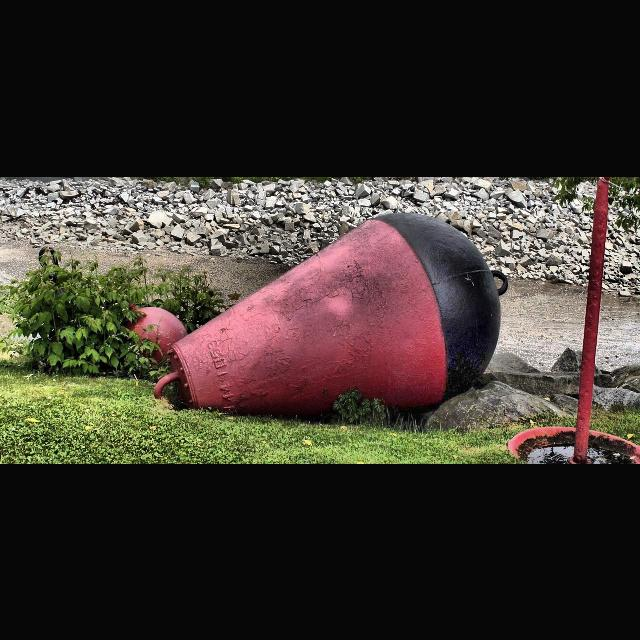buoy: (155, 208, 509, 424)
